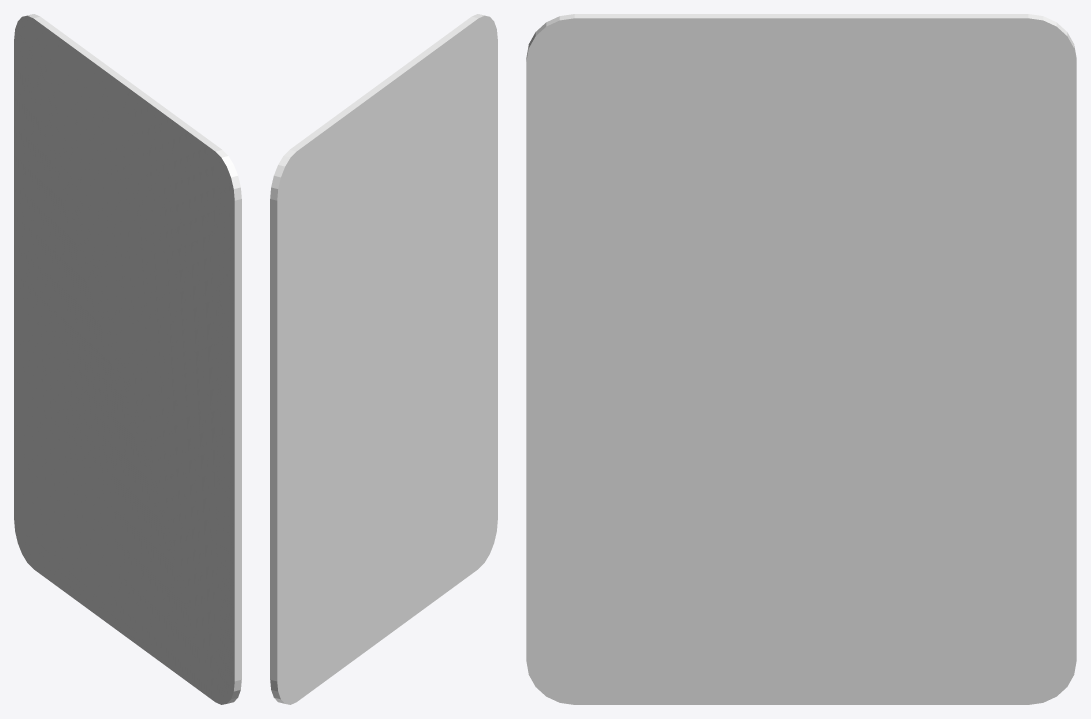
Rendered from Card_front.fbx.
The picture shows the model from 3 angles, left to right: view 1: azimuth 30°, elevation 25°; view 2: azimuth 150°, elevation 25°; view 3: azimuth 270°, elevation 25°; orthographic projection. The views are drawn at different scales.
Visible parts, largest first — view 1: Cube; view 2: Cube; view 3: Cube.
Part boxes in pixels (x1,y1,x2,y2): Cube: (14, 14, 241, 704); Cube: (270, 14, 497, 704); Cube: (526, 14, 1076, 704).
Bounding box in the file's own units: 3.71 × 275 × 200.
Materials: 1 (1 with a texture image).
